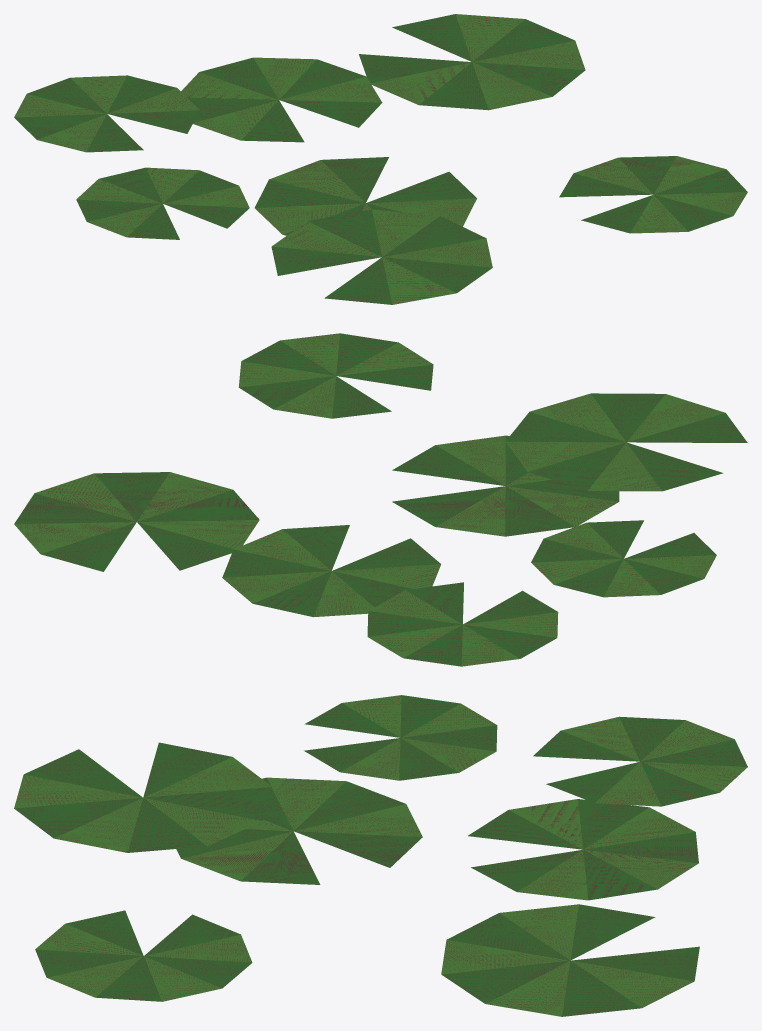
The model's file is Water Plant - Lily Pads-DzanEFN6.glb.
The picture shows the model from 3 angles, top to bottom: view 1: azimuth 30°, elevation 25°; view 2: azimuth 150°, elevation 25°; view 3: azimuth 270°, elevation 25°; orthographic projection. The views are drawn at different scales.
Parts seen in each view (by area): view 1: body; view 2: body; view 3: body.
Part boxes in pixels (x1,y1,x2,y2): body: (14, 14, 747, 304); body: (14, 333, 747, 666); body: (14, 695, 747, 1016).
Bounding box in the file's own units: 0.8848 × 0.012 × 0.8692.
